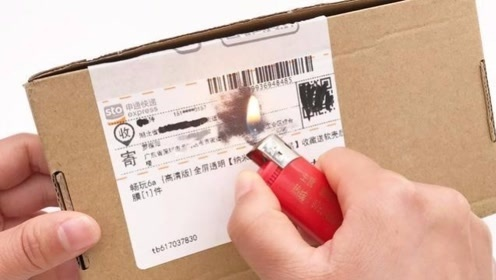fire: (243, 92, 264, 127)
